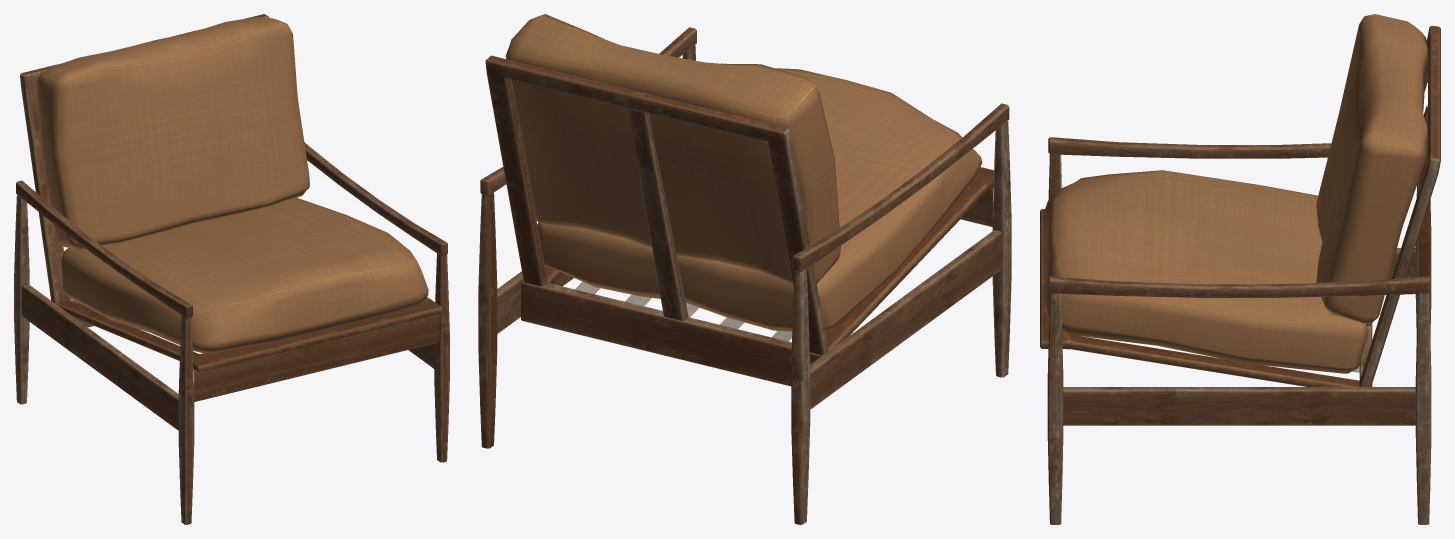
File: SM_armchair.gltf
The picture shows the model from 3 angles, left to right: view 1: azimuth 30°, elevation 25°; view 2: azimuth 150°, elevation 25°; view 3: azimuth 270°, elevation 25°; orthographic projection. The views are drawn at different scales.
Parts seen in each view (by area): view 1: SM_armchair; view 2: SM_armchair; view 3: SM_armchair.
Boxes of the visible parts, <box> form: SM_armchair: <box>14,14,449,524</box>; SM_armchair: <box>478,14,1011,524</box>; SM_armchair: <box>1040,14,1440,524</box>.
Bounding box in the file's own units: 0.765 × 0.9424 × 0.8929.
Materials: 1 (1 with a texture image).
